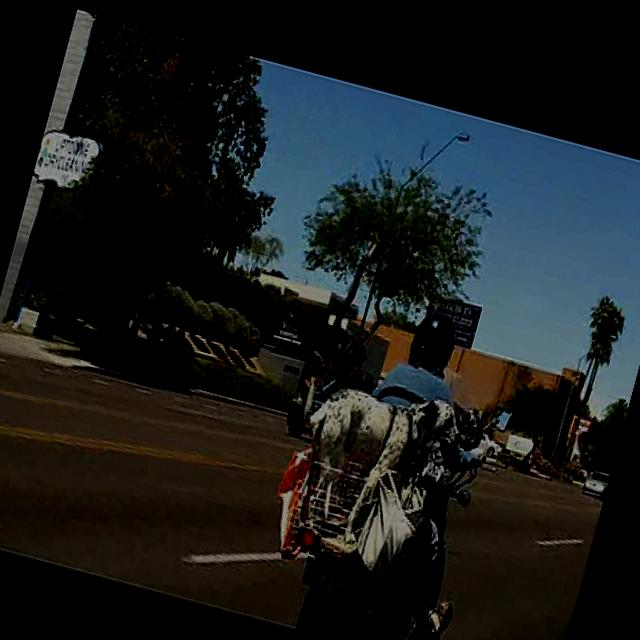Vehicle: (292, 367, 514, 640), (386, 441, 502, 618), (284, 362, 378, 452), (578, 466, 610, 502), (476, 432, 506, 460)
